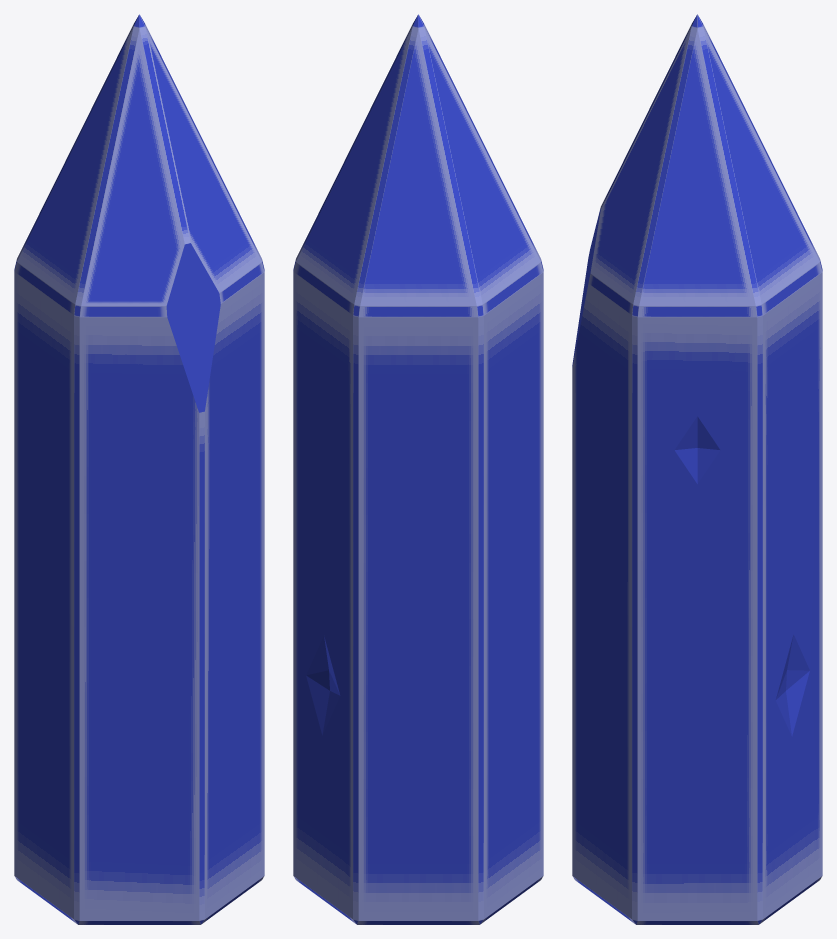
File: crystalTree3.fbx
The picture shows the model from 3 angles, left to right: view 1: azimuth 30°, elevation 25°; view 2: azimuth 150°, elevation 25°; view 3: azimuth 270°, elevation 25°; orthographic projection.
Parts seen in each view (by area): view 1: Circle; view 2: Circle; view 3: Circle.
Part boxes in pixels (x1,y1,x2,y2): Circle: (14,14,264,924); Circle: (293,14,543,924); Circle: (572,14,822,924).
Bounding box in the file's own units: 1.73 × 7.53 × 1.97.
